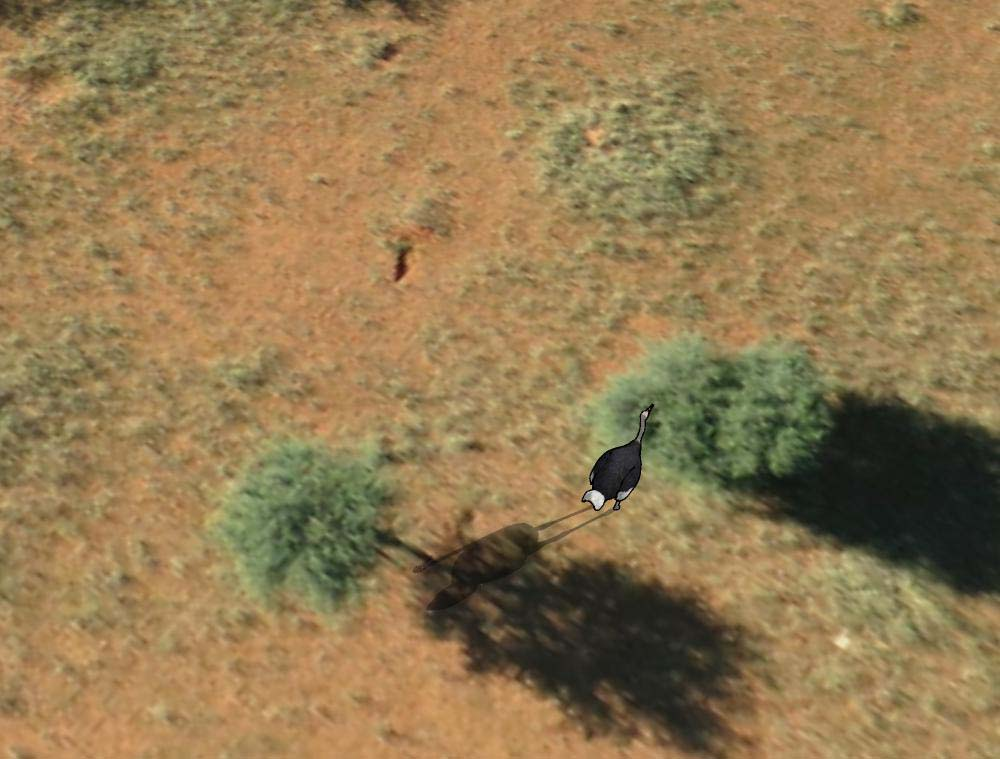springbok: (578, 403, 651, 516)
